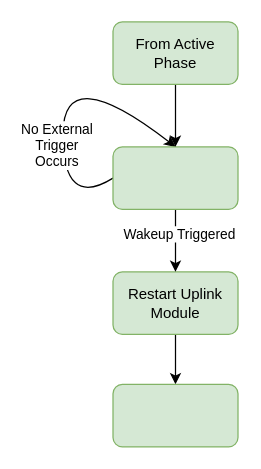
Some shapes in this 261 by 469 pixel diagram are drawn without their labels. Each missing label, with the centre of its shape:
"Enter Setup Phase" goes at (175,415).
"Sleep" goes at (175,177).
